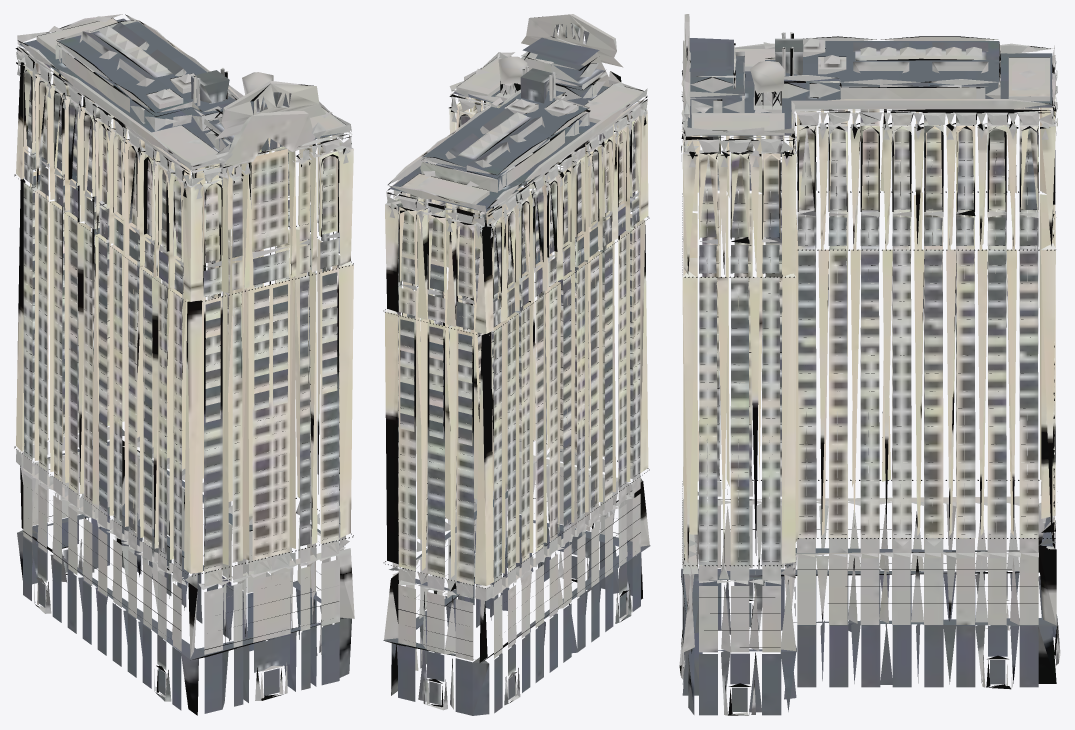
File: nyannex.glb
3 renders of one model, left to right at view 1: azimuth 30°, elevation 25°; view 2: azimuth 150°, elevation 25°; view 3: azimuth 270°, elevation 25°, orthographic. The views are drawn at different scales.
Visible parts, largest first — view 1: Body; view 2: Body; view 3: Body.
Boxes of the visible parts, left/top/right/bottom form: Body: left=14, top=14, right=354, bottom=715; Body: left=383, top=14, right=650, bottom=715; Body: left=679, top=14, right=1060, bottom=715.
Size of the model in its own units: 34.65 by 120 by 63.47.
1 material, 1 textured.
